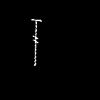treble_crochet: (32, 19, 40, 65)
